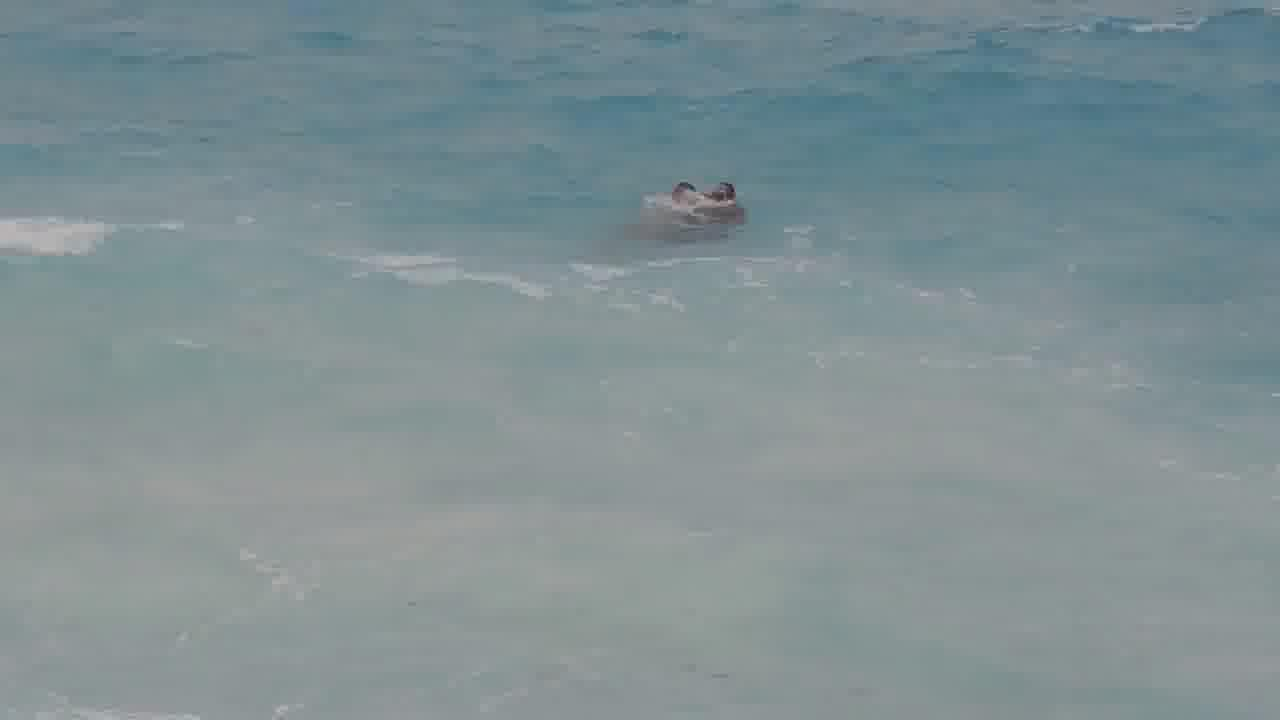human: (646, 171, 710, 221), (704, 174, 758, 222)
